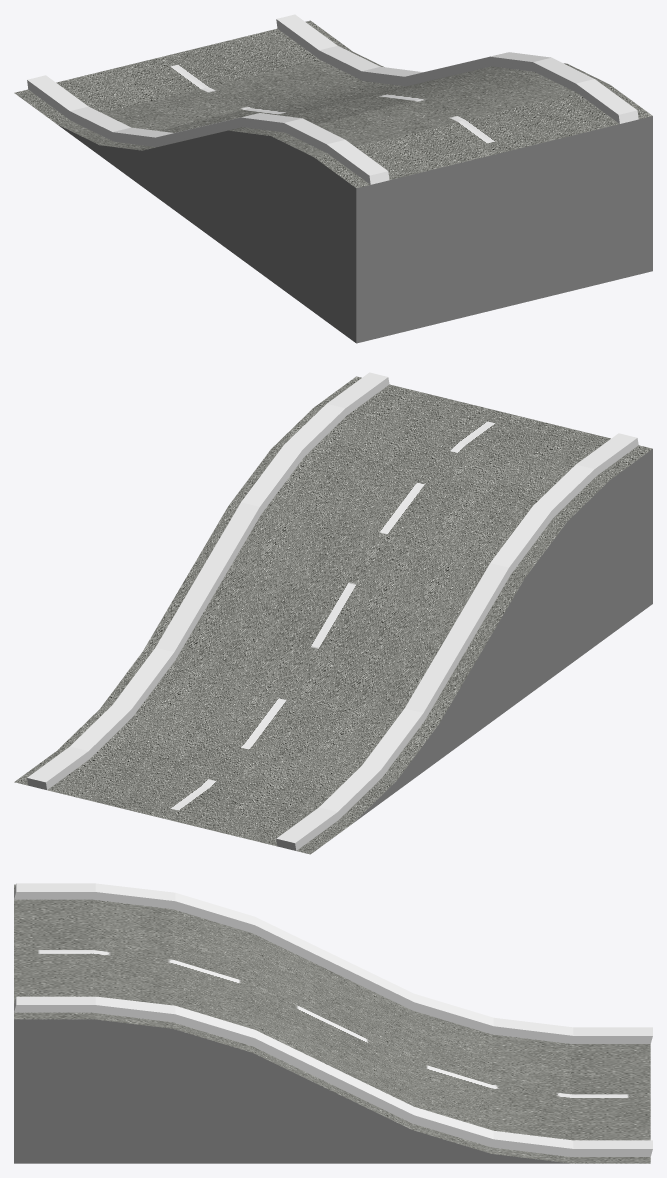
File: BridgeEntrance.fbx
3 views of the same model, one above another, from view 1: azimuth 30°, elevation 25°; view 2: azimuth 150°, elevation 25°; view 3: azimuth 270°, elevation 25° (orthographic). The views are drawn at different scales.
Parts seen in each view (by area): view 1: BridgeEntrance; view 2: BridgeEntrance; view 3: BridgeEntrance.
Part boxes in pixels (x1,y1,x2,y2): BridgeEntrance: (14,14,652,343); BridgeEntrance: (14,372,652,854); BridgeEntrance: (14,883,652,1163).
Bounding box in the file's own units: 600 × 316 × 1204.
